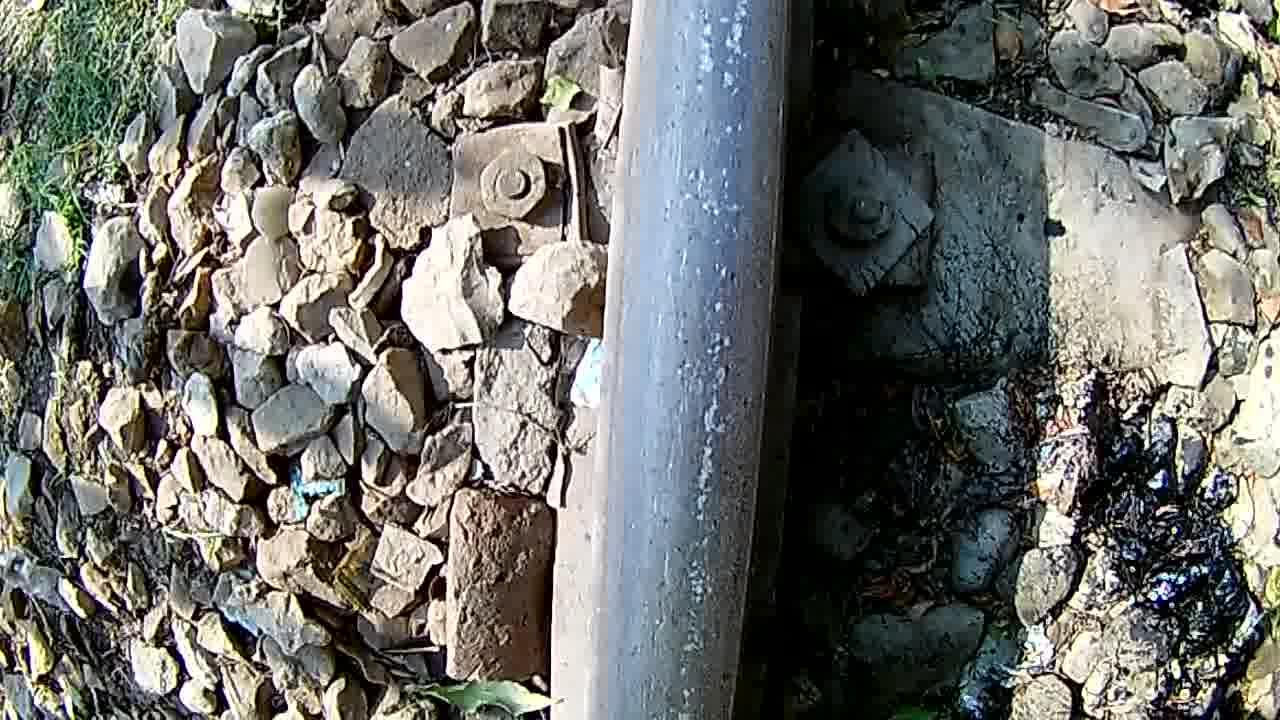clip_missing: (594, 0, 799, 720)
